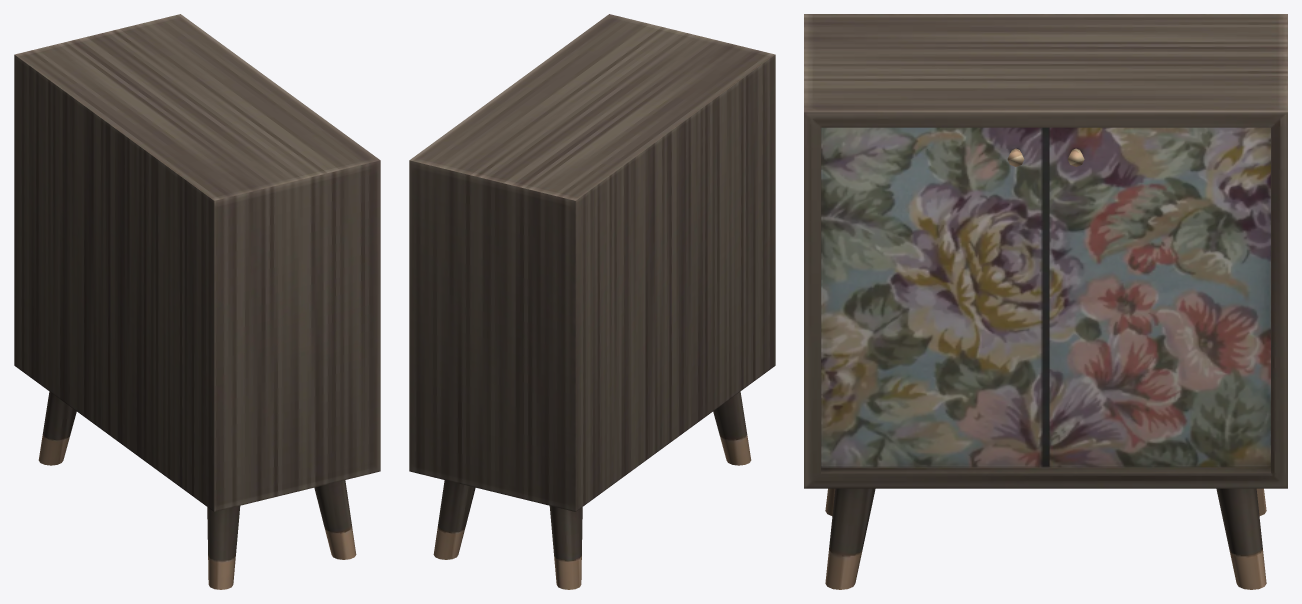
Rendered from cabinet01.glb.
The picture shows the model from 3 angles, left to right: view 1: azimuth 30°, elevation 25°; view 2: azimuth 150°, elevation 25°; view 3: azimuth 270°, elevation 25°; orthographic projection. The views are drawn at different scales.
Parts seen in each view (by area): view 1: cabinet01; view 2: cabinet01; view 3: cabinet01.
Boxes of the visible parts, x1,y1,x2,y2 form: cabinet01: (14,14,380,589); cabinet01: (409,14,775,589); cabinet01: (804,14,1287,589).
Bounding box in the file's own units: 0.3698 × 0.85 × 0.7699.
Materials: 1 (1 with a texture image).
